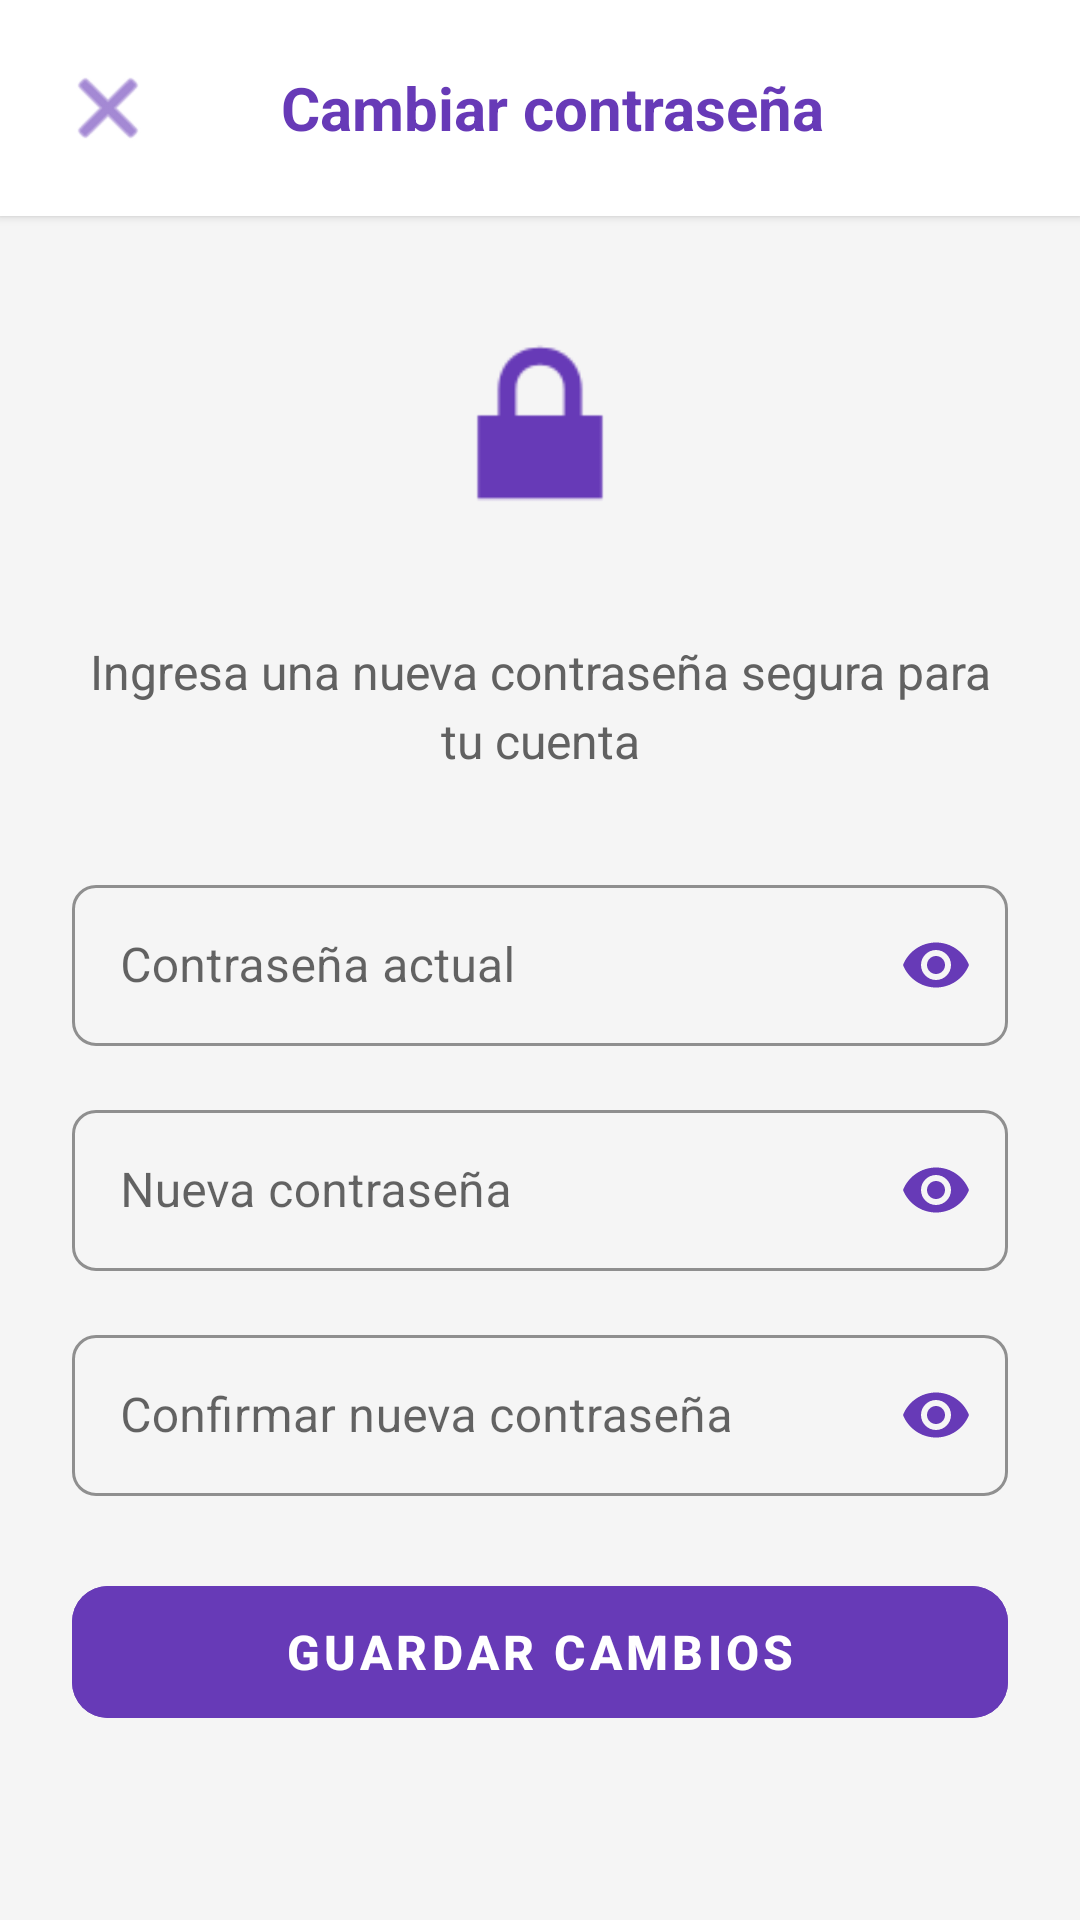

Named icons in this screenshot (1080 x 1920) and their centers, (x=x, y=y):
Cambiar contraseña: (x=540, y=423)
Cancelar: (x=108, y=108)
